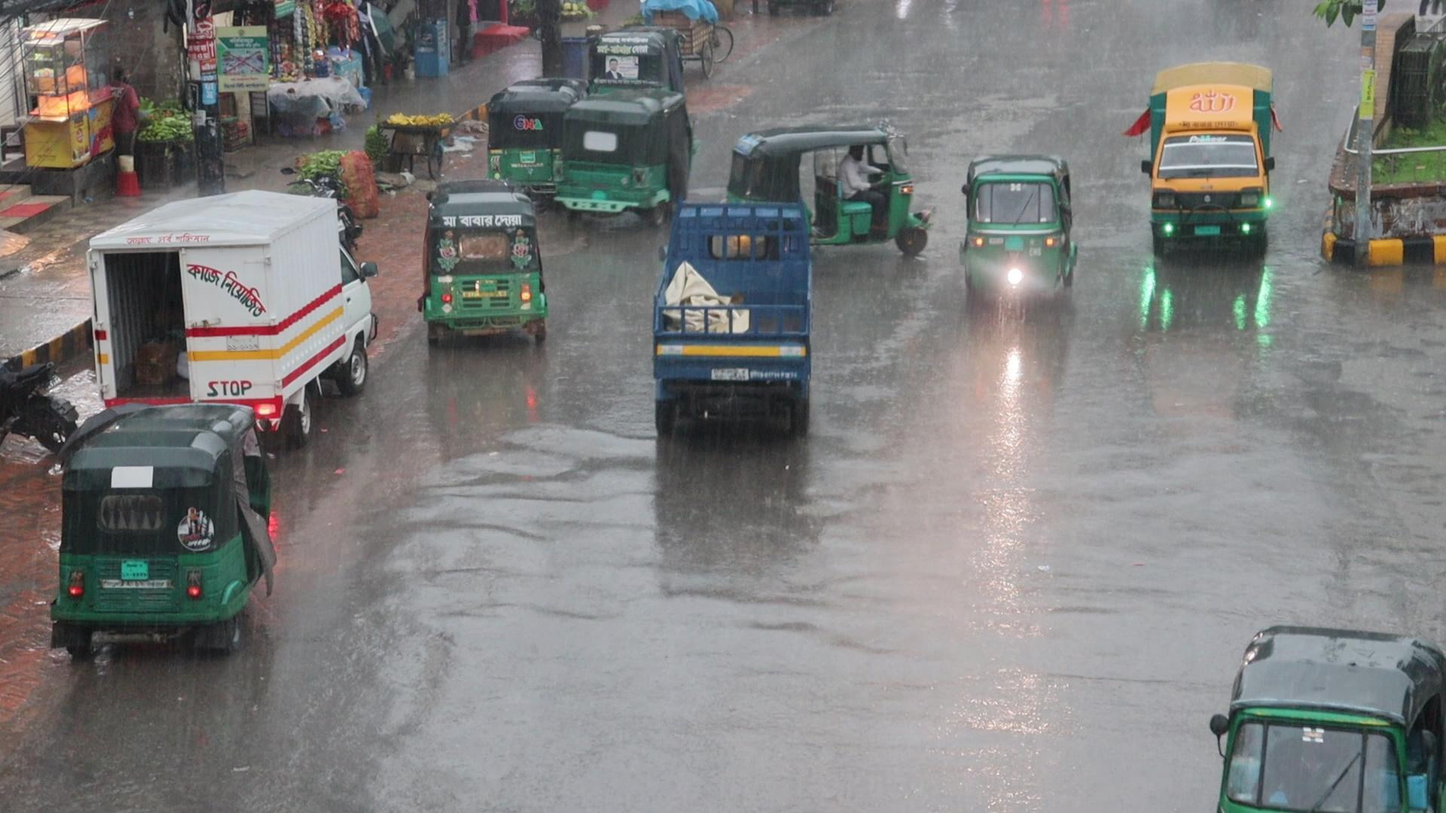Truck: (644, 193, 828, 454), (1144, 51, 1281, 261)
